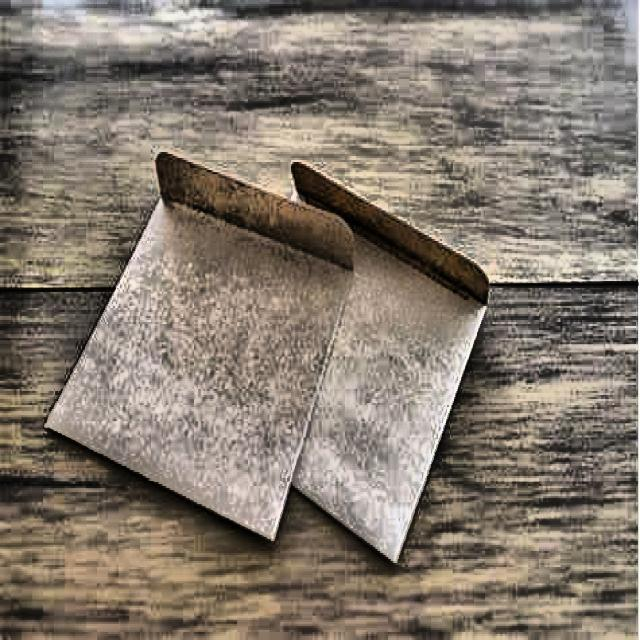Paper: (36, 122, 495, 585)
